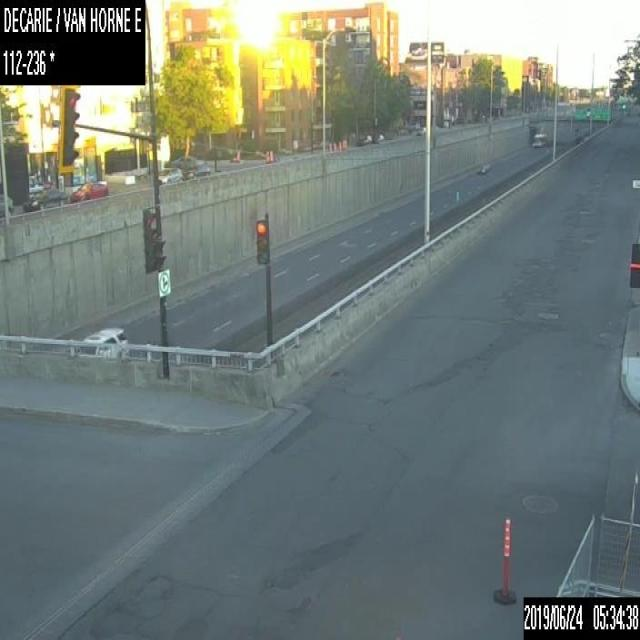construction: (492, 513, 520, 603), (268, 148, 274, 161), (236, 148, 239, 161), (328, 141, 331, 151), (333, 141, 336, 150), (266, 148, 268, 161), (344, 138, 346, 148), (338, 140, 340, 150), (341, 139, 343, 148)
vehicle: (77, 326, 129, 356), (21, 188, 67, 210), (70, 181, 107, 202), (171, 154, 204, 169), (180, 163, 209, 180), (156, 168, 179, 185), (0, 189, 12, 216), (531, 133, 547, 145), (355, 133, 371, 145), (476, 161, 489, 173), (373, 133, 383, 142), (415, 126, 424, 134)
